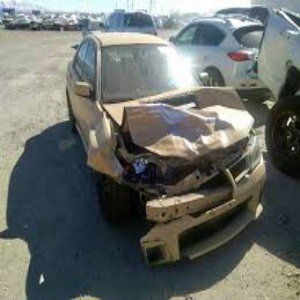bonnet: (105, 82, 256, 159)
bumper: (105, 159, 278, 265)
